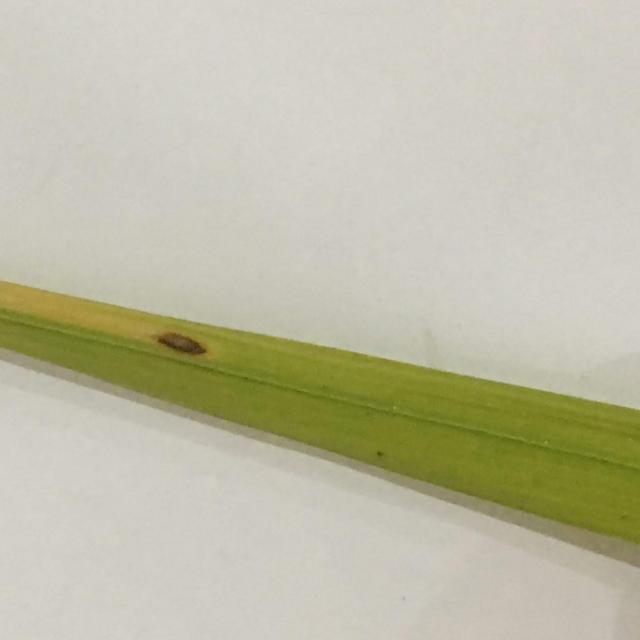Blast: (160, 332, 215, 362)
